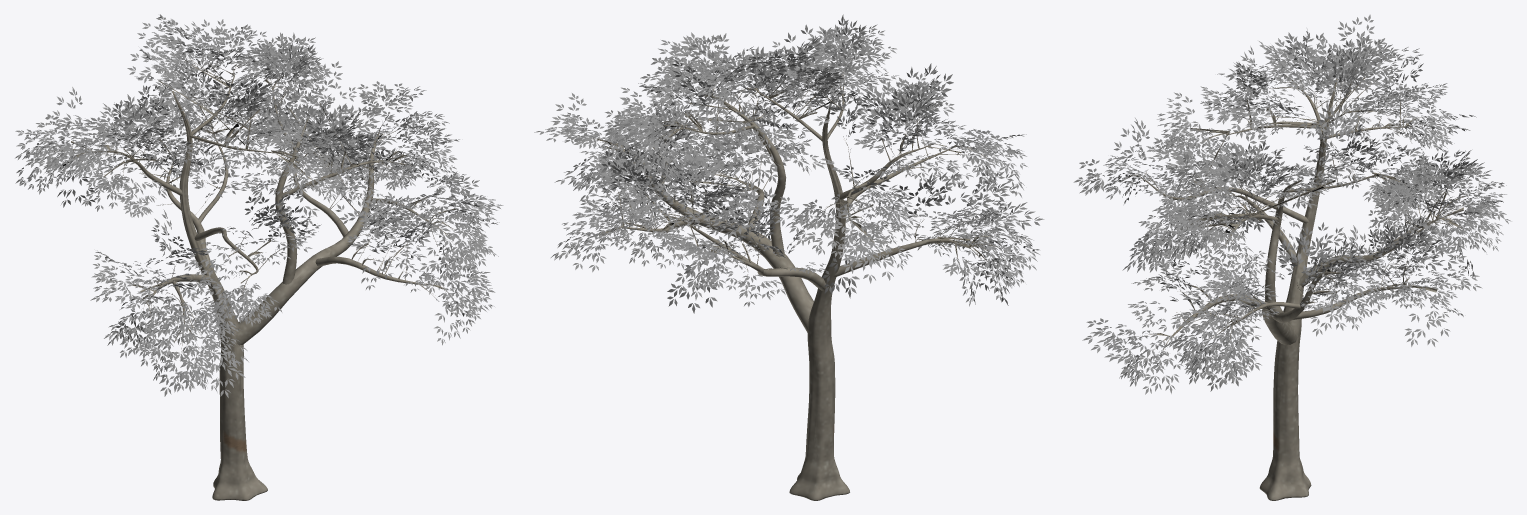
Rendered from RT_Mature_B_LOD2.glb.
3 views of the same model, side by side, from view 1: azimuth 30°, elevation 25°; view 2: azimuth 150°, elevation 25°; view 3: azimuth 270°, elevation 25° (orthographic). The views are drawn at different scales.
Visible parts, largest first — view 1: RT_Mature_B_LOD2_Foliage, RT_Mature_B_LOD2_Body; view 2: RT_Mature_B_LOD2_Foliage, RT_Mature_B_LOD2_Body; view 3: RT_Mature_B_LOD2_Foliage, RT_Mature_B_LOD2_Body.
Part boxes in pixels (x1,y1,x2,y2): RT_Mature_B_LOD2_Foliage: (15,14,503,397); RT_Mature_B_LOD2_Body: (54,57,455,500); RT_Mature_B_LOD2_Foliage: (534,14,1044,313); RT_Mature_B_LOD2_Body: (592,61,998,500); RT_Mature_B_LOD2_Foliage: (1073,14,1511,394); RT_Mature_B_LOD2_Body: (1122,67,1469,500).
Size of the model in its own units: 12.73 by 13.64 by 11.9.
2 materials, 1 textured.
